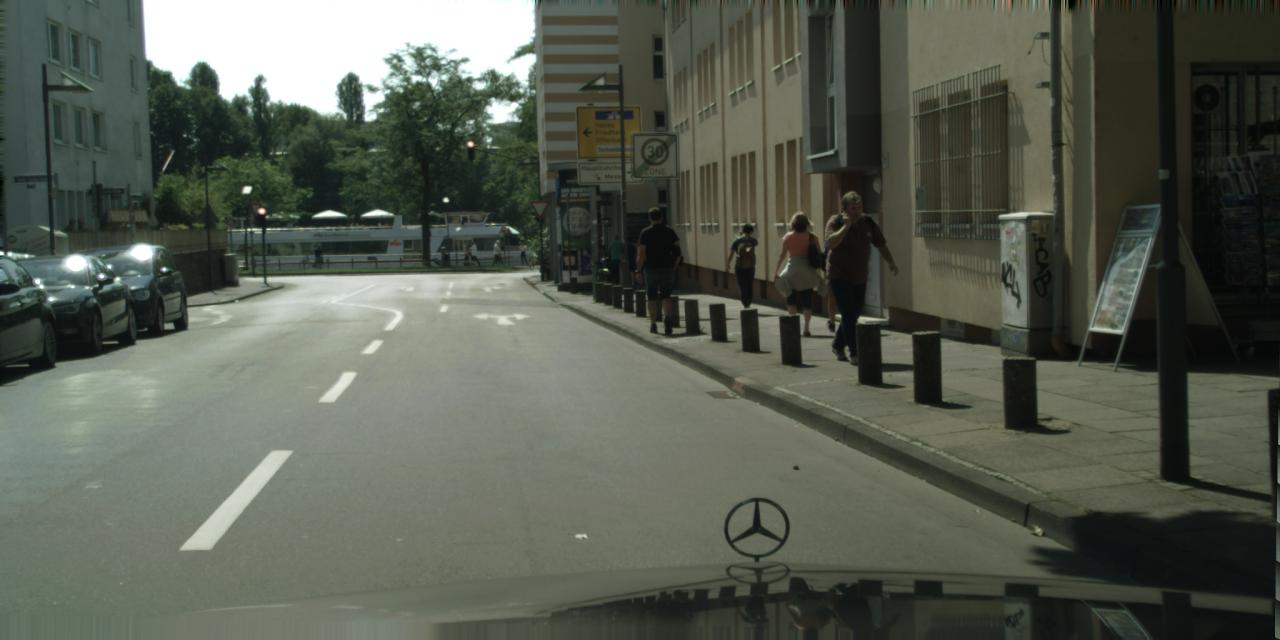ped: (815, 192, 885, 362), (631, 206, 683, 332), (774, 210, 825, 334), (818, 218, 864, 331), (730, 223, 765, 310), (618, 236, 640, 290), (607, 233, 627, 285), (492, 240, 502, 267), (517, 241, 527, 266), (312, 246, 322, 270), (468, 241, 478, 265), (464, 241, 473, 265), (494, 242, 503, 266)
